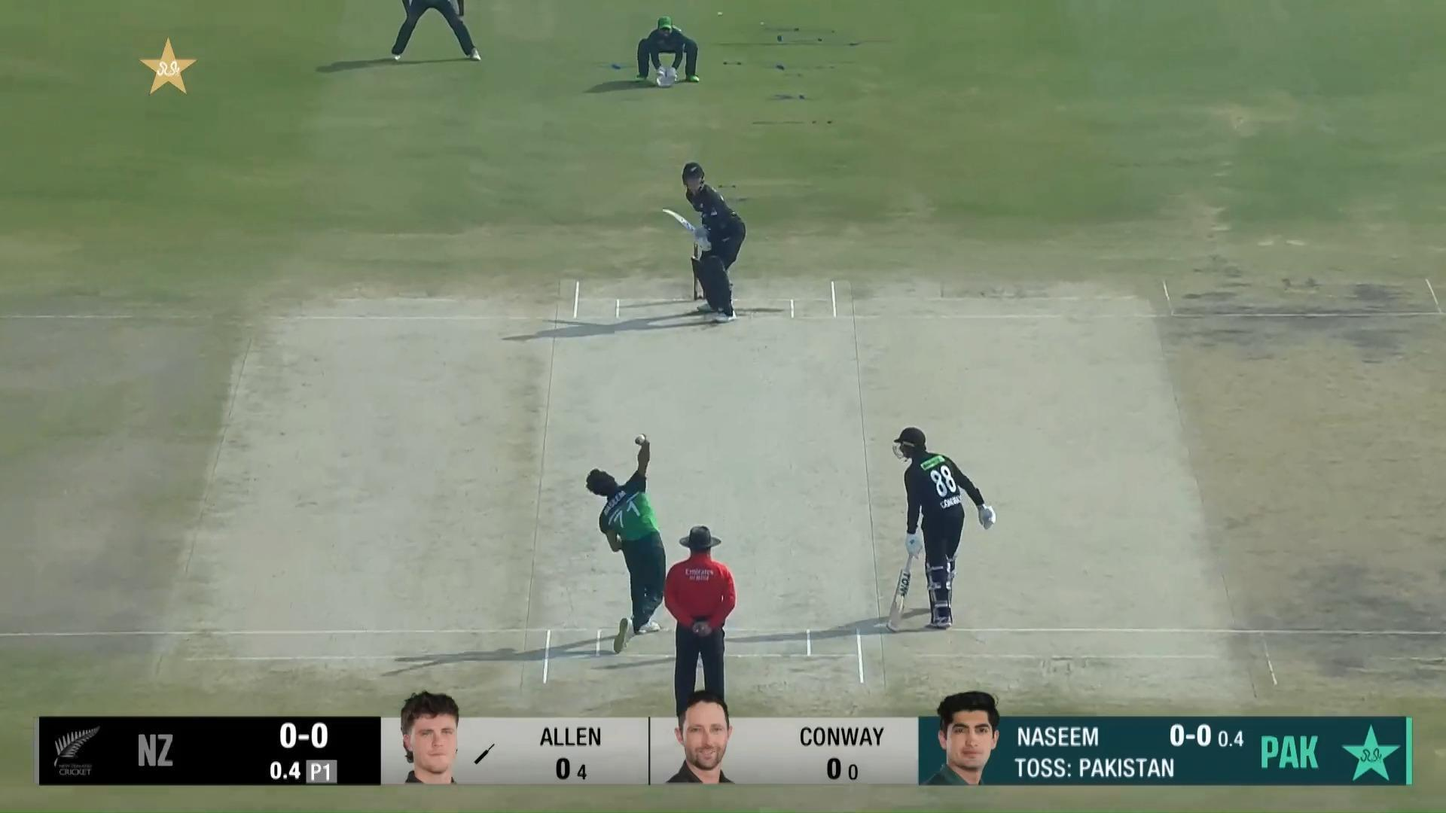BM 1: (660, 161, 747, 325)
BO: (585, 433, 666, 654)
